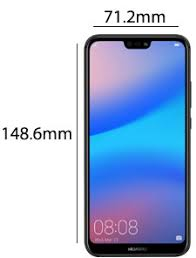huawei: (82, 30, 190, 256)
